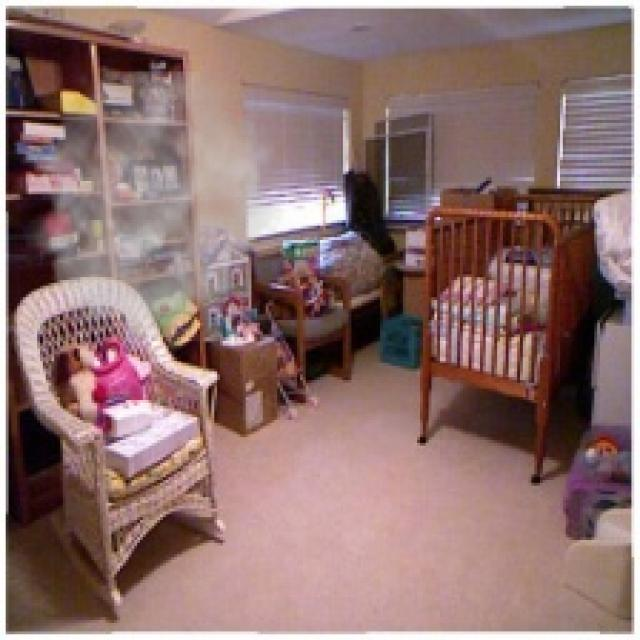smoke: (23, 72, 286, 337)
